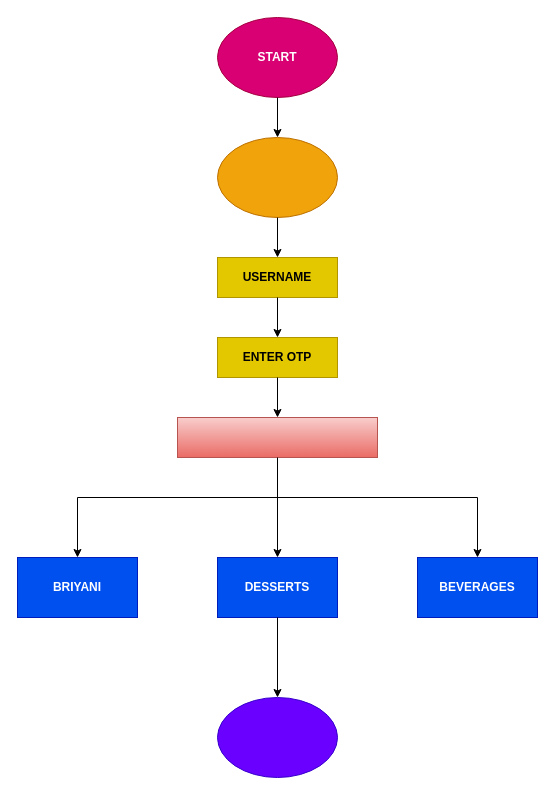
The diagram is 555 pixels wide and 795 high, and some of its shapes have lost their labels. Here are the shapes that lost their labels. From the top down, the centre of each, then its label:
At (x=277, y=177): "SIGN UP".
At (x=277, y=437): "MENU".
At (x=277, y=737): "END".
